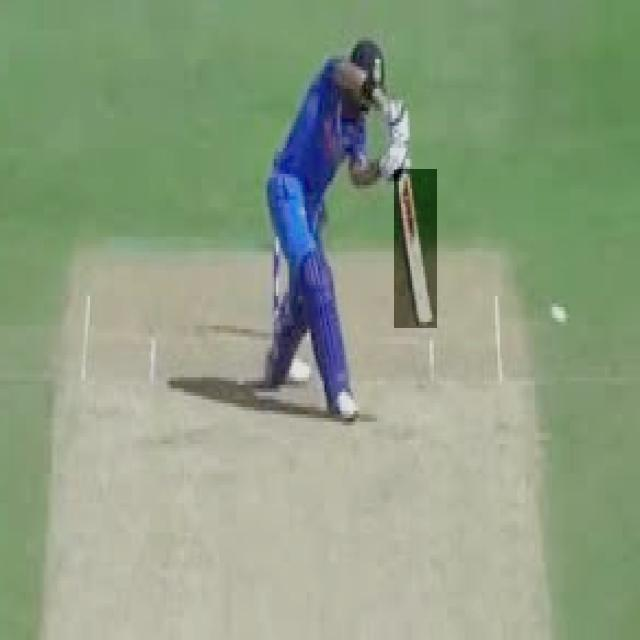bat: (390, 168, 438, 328)
toe: (408, 306, 452, 332)
